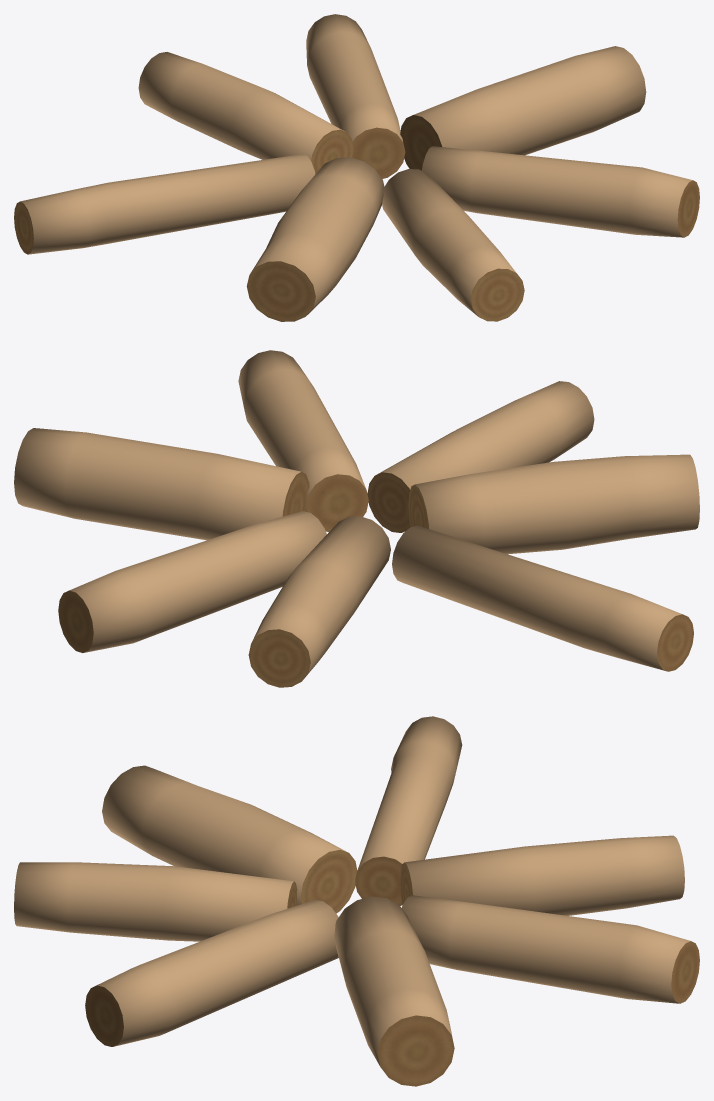
File: Campfire_Star.fbx
3 renders of one model, top to bottom at view 1: azimuth 30°, elevation 25°; view 2: azimuth 150°, elevation 25°; view 3: azimuth 270°, elevation 25°, orthographic. The views are drawn at different scales.
Parts seen in each view (by area): view 1: Cylinder.039, Cylinder.038, Cylinder.035, Cylinder.033, Cylinder.034, Cylinder.040, Cylinder.036; view 2: Cylinder.035, Cylinder.033, Cylinder.038, Cylinder.036, Cylinder.040, Cylinder.034, Cylinder.039; view 3: Cylinder.036, Cylinder.033, Cylinder.039, Cylinder.040, Cylinder.034, Cylinder.035, Cylinder.038.
Boxes of the visible parts, <box> form: Cylinder.039: <box>421,146,699,237</box>; Cylinder.038: <box>14,154,315,254</box>; Cylinder.035: <box>400,46,646,170</box>; Cylinder.033: <box>246,157,384,321</box>; Cylinder.034: <box>138,52,353,173</box>; Cylinder.040: <box>382,169,524,321</box>; Cylinder.036: <box>306,14,405,178</box>; Cylinder.035: <box>14,428,309,540</box>; Cylinder.033: <box>408,454,699,554</box>; Cylinder.038: <box>392,525,693,671</box>; Cylinder.036: <box>58,511,326,652</box>; Cylinder.040: <box>367,381,594,532</box>; Cylinder.034: <box>248,516,390,687</box>; Cylinder.039: <box>238,350,368,531</box>; Cylinder.036: <box>401,895,699,1003</box>; Cylinder.033: <box>102,765,357,913</box>; Cylinder.039: <box>85,900,338,1046</box>; Cylinder.040: <box>14,862,297,941</box>; Cylinder.034: <box>400,835,684,915</box>; Cylinder.035: <box>334,896,454,1086</box>; Cylinder.038: <box>355,716,462,905</box>.
Bounding box in the file's own units: 162 × 19.57 × 146.
